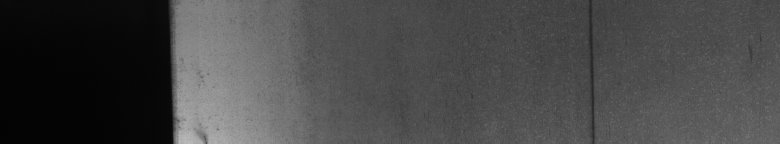hd: (586, 4, 601, 136)
